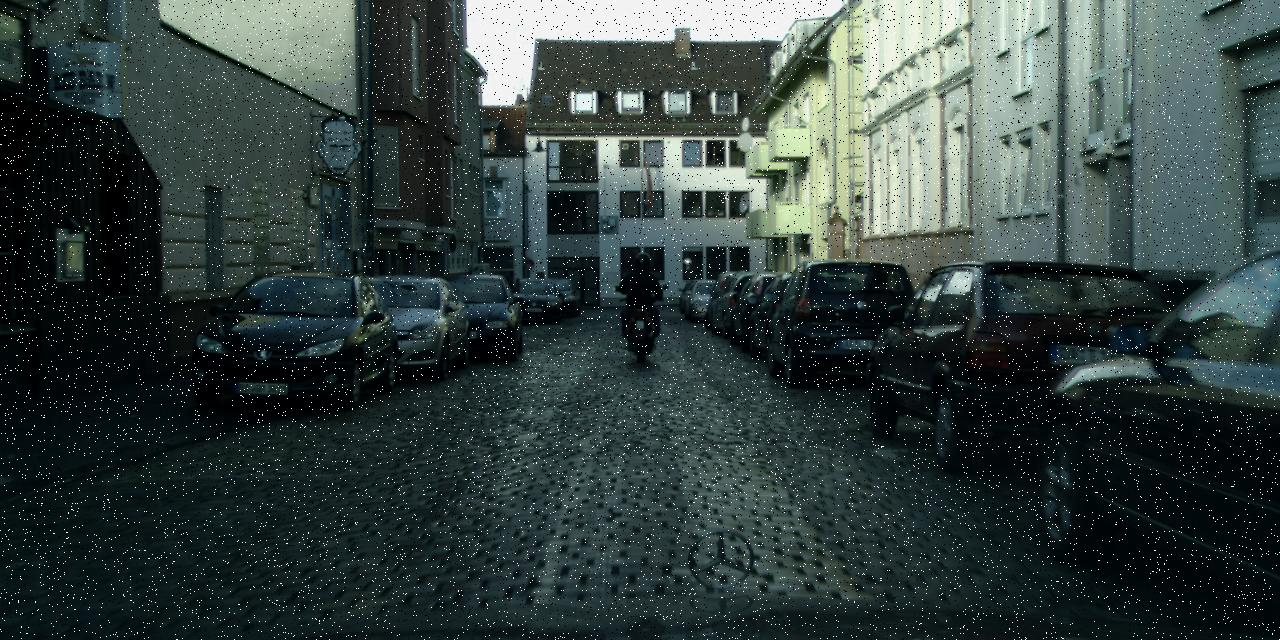ped: (623, 252, 658, 337)
